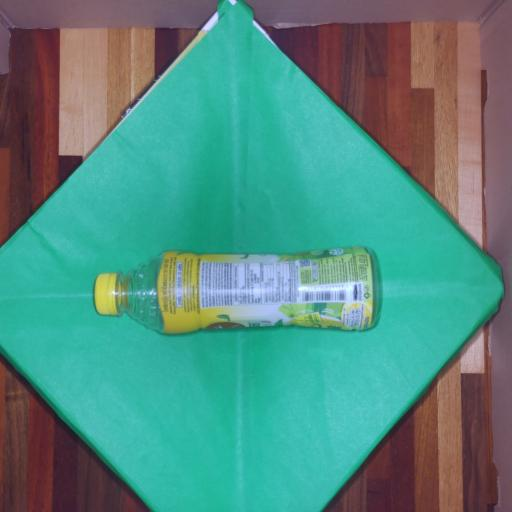bottle: (65, 236, 399, 359)
